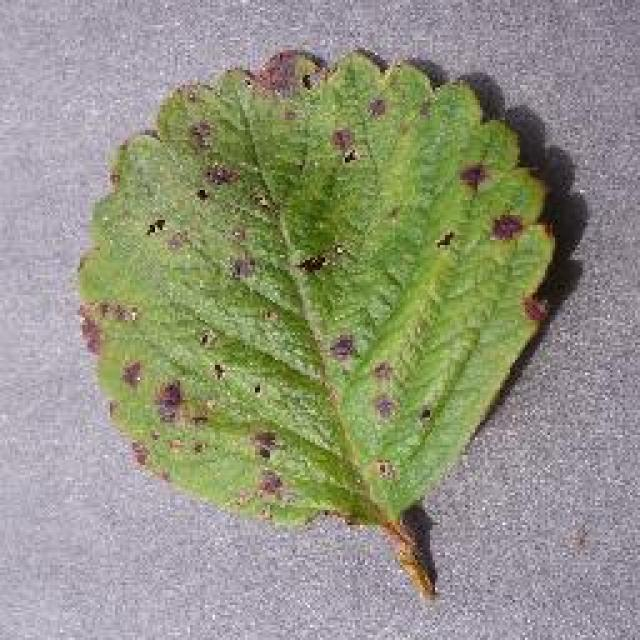Strawberry leaf scorch: (180, 156, 462, 446)
